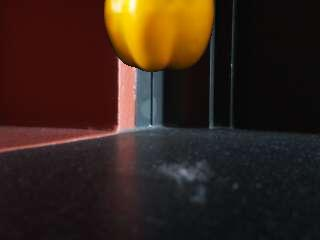Capsicum: (103, 0, 216, 72)
